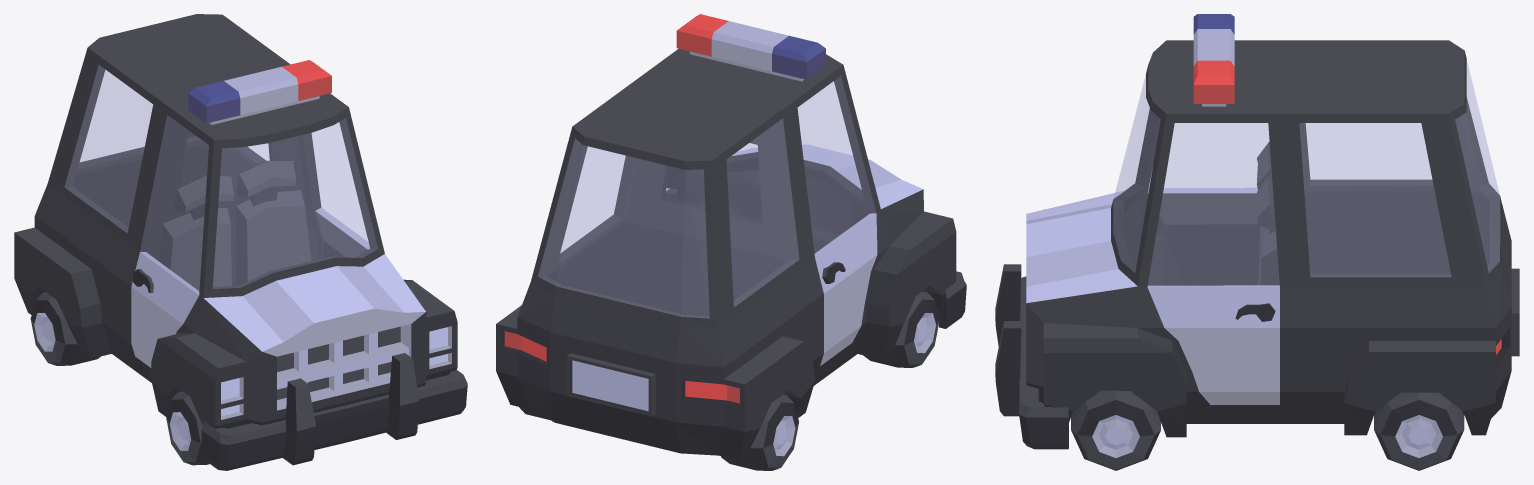
Rendered from police-cruiser-2-0.glb.
3 views of the same model, side by side, from view 1: azimuth 30°, elevation 25°; view 2: azimuth 150°, elevation 25°; view 3: azimuth 270°, elevation 25° (orthographic). The views are drawn at different scales.
Parts seen in each view (by area): view 1: Car02_2_Police, Car02_2_AdB.001, Car02_2_AdF.001, Car02_2_DR.001, Car02_2_Police_AdT, Car02_2_DL.001, Car02_2_WhBR.001, Car02_2_WhFR.001; view 2: Car02_2_Police, Car02_2_AdB.001, Car02_2_DR.001, Car02_2_Police_AdT, Car02_2_WhBR.001, Car02_2_WhFR.001, Car02_2_AdF.001; view 3: Car02_2_Police, Car02_2_AdB.001, Car02_2_DL.001, Car02_2_DR.001, Car02_2_AdF.001, Car02_2_WhBL.001, Car02_2_WhFL.001, Car02_2_Police_AdT.
Part boxes in pixels (box(x1,y1,x2,y2)): Car02_2_Police: box(14, 92, 457, 428); Car02_2_AdB.001: box(47, 14, 290, 243); Car02_2_AdF.001: box(201, 353, 467, 470); Car02_2_DR.001: box(131, 115, 208, 367); Car02_2_Police_AdT: box(188, 60, 331, 124); Car02_2_DL.001: box(312, 123, 369, 257); Car02_2_WhBR.001: box(30, 292, 100, 365); Car02_2_WhFR.001: box(166, 391, 209, 465); Car02_2_Police: box(496, 49, 956, 460); Car02_2_AdB.001: box(531, 72, 804, 327); Car02_2_DR.001: box(798, 76, 877, 365); Car02_2_Police_AdT: box(676, 14, 825, 81); Car02_2_WhBR.001: box(721, 394, 798, 470); Car02_2_WhFR.001: box(863, 291, 939, 367); Car02_2_AdF.001: box(939, 271, 966, 328); Car02_2_Police: box(1026, 40, 1519, 437); Car02_2_AdB.001: box(1289, 40, 1502, 286); Car02_2_DL.001: box(1147, 123, 1279, 404); Car02_2_DR.001: box(1147, 123, 1268, 285); Car02_2_AdF.001: box(995, 264, 1068, 449); Car02_2_WhBL.001: box(1374, 392, 1464, 470); Car02_2_WhFL.001: box(1071, 390, 1160, 470); Car02_2_Police_AdT: box(1193, 14, 1234, 106).
Size of the model in its own units: 2.93 by 3.7 by 4.81.
6 materials, 6 textured.
